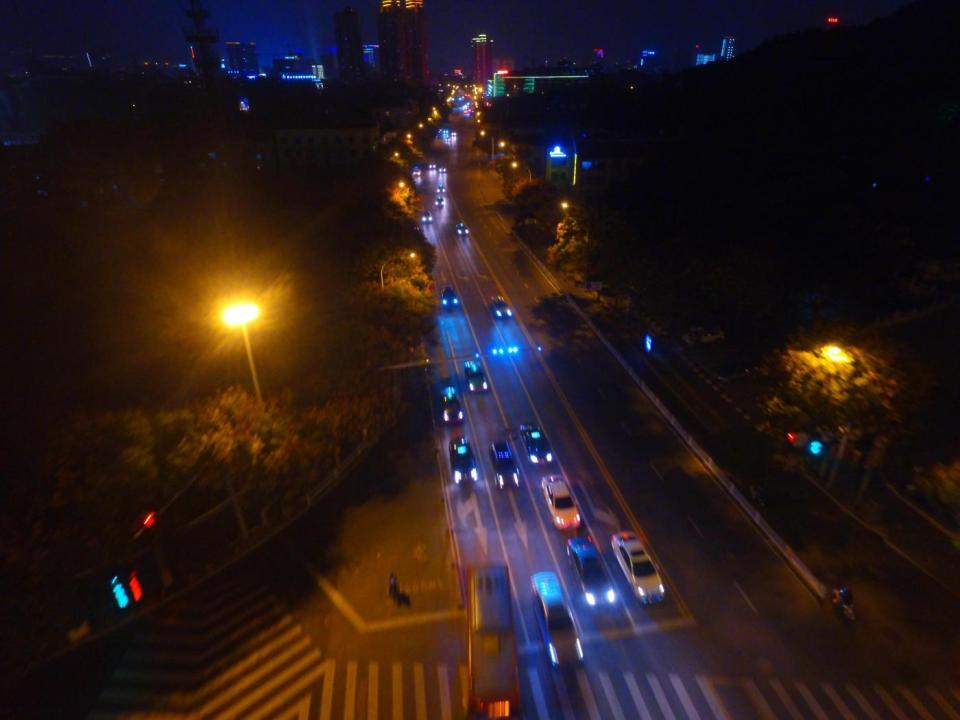bus: (464, 562, 522, 718)
car: (532, 575, 582, 669), (611, 531, 662, 605), (566, 541, 618, 608), (540, 473, 580, 533), (490, 441, 522, 493), (520, 424, 554, 466), (448, 436, 478, 481), (464, 360, 489, 395), (442, 387, 464, 425), (491, 294, 512, 319), (442, 285, 460, 309), (456, 224, 469, 237), (421, 210, 434, 223), (434, 198, 445, 208), (436, 166, 446, 175), (436, 184, 445, 193), (427, 160, 437, 168), (412, 168, 421, 176), (451, 130, 457, 137), (443, 128, 448, 134)
